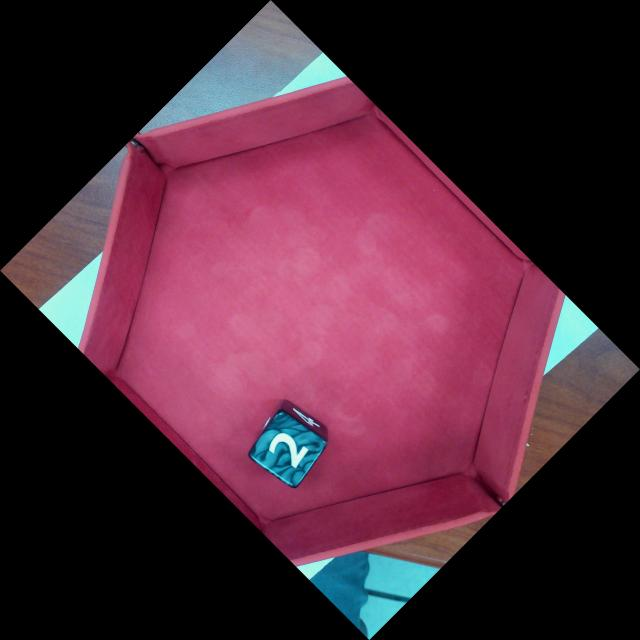dice: (248, 409, 328, 489)
